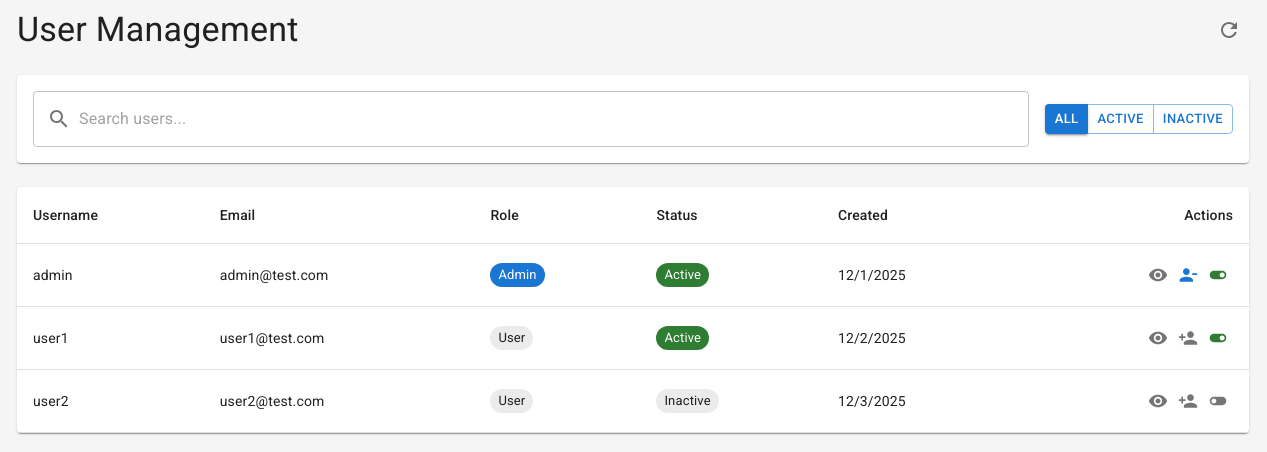
Test case: UsersManagement Page - TDD (Rebuilt with Admin V1 API) › 3. Search & Filtering › should search users by username
Expected: the text "admin" is shown, [17,244,204,306]
// Type in search box
In the field with placeholder "Search users...": (554, 119) [79,91,1029,147], type "user1"
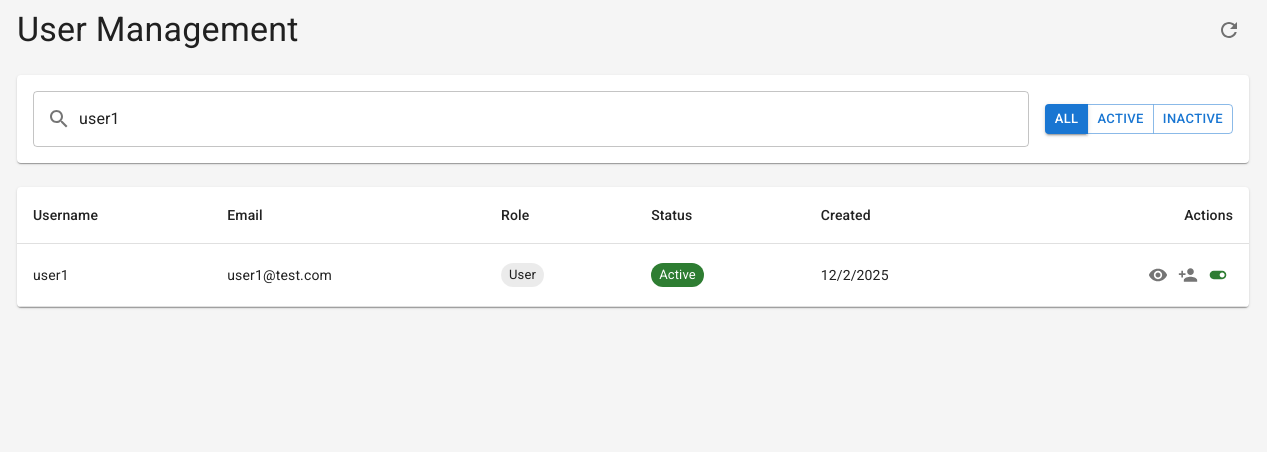
Expected: the text "user1" is shown, [17,244,211,306]
Expected: the text "user2" is gone
